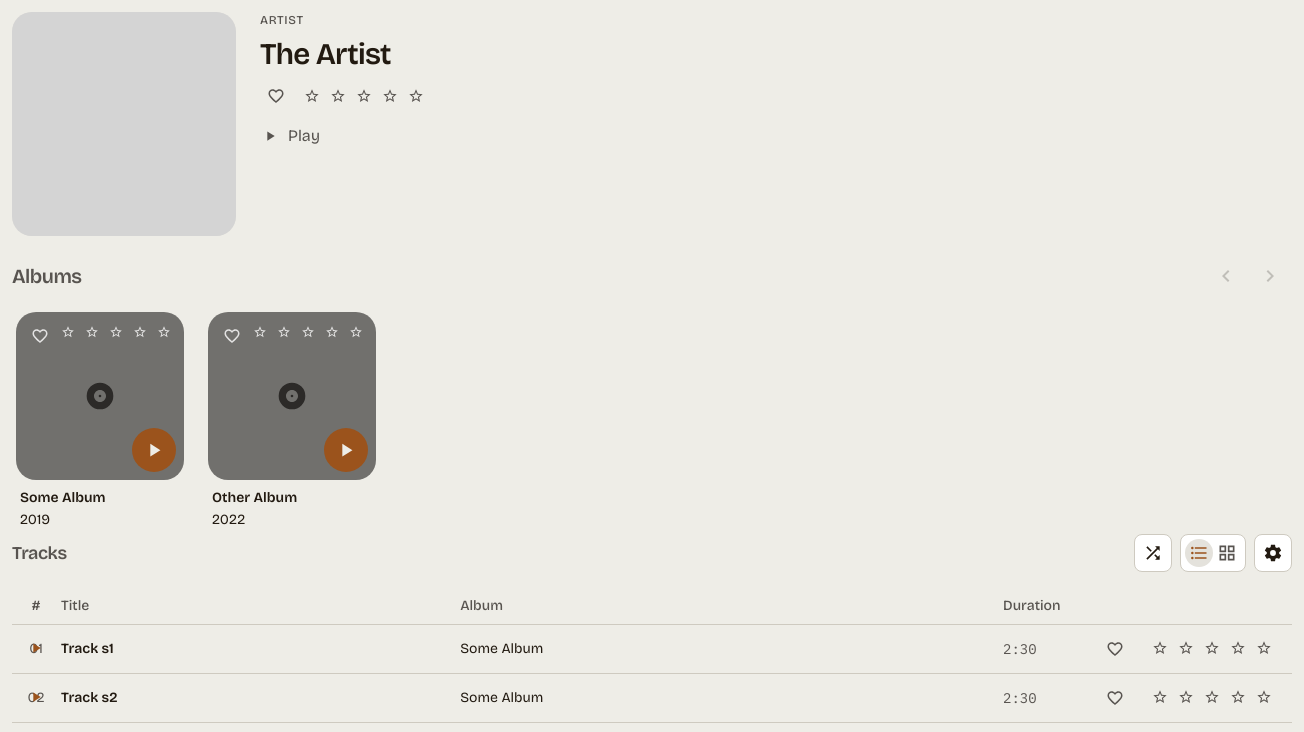
Artist detail (react-query, embedded songs, P5) › opens the album context menu on the album cards
Expected: the link "Track s1" is shown, [61,640,114,657]
Right-click the link "Some Album" next to "Other Album" at (63, 498), box [20,489,106,506]
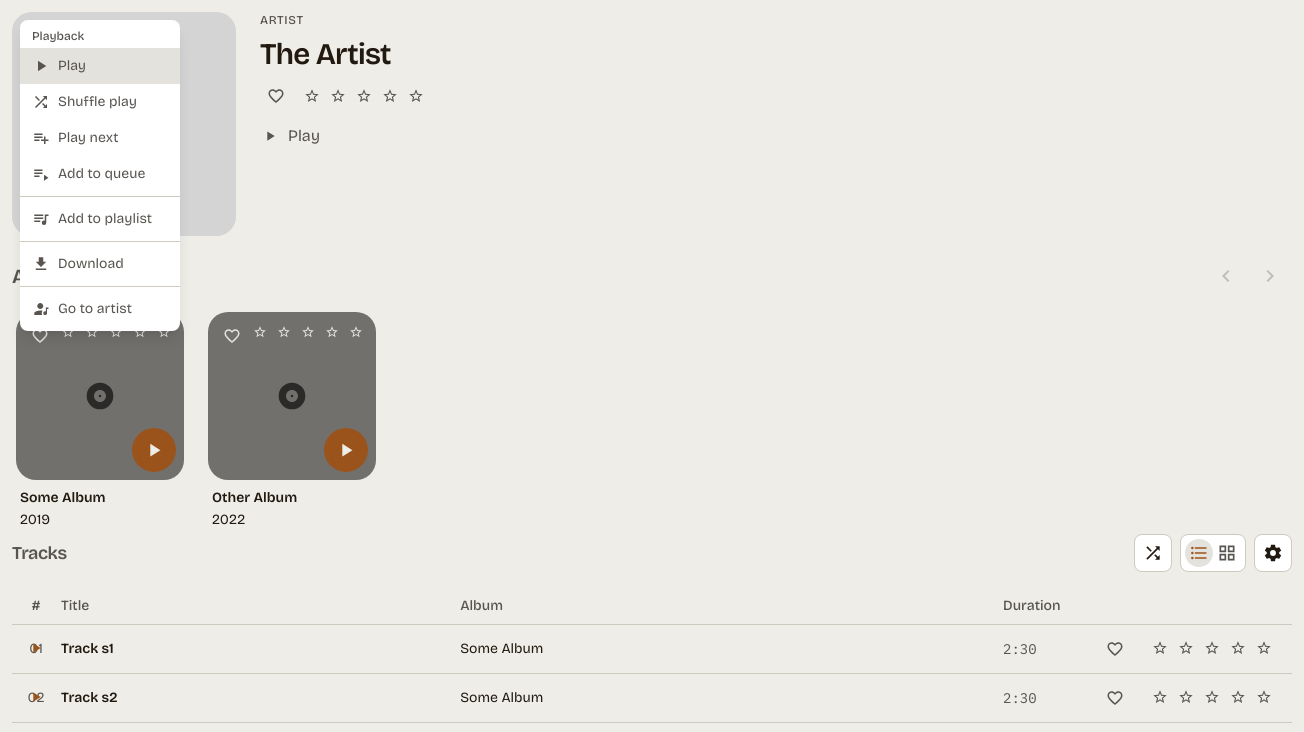
Now the menu is shown, box [20,20,180,331]
Now the menu item "Play" is shown, box [20,48,180,84]
Now the menu item "Add to playlist" is shown, box [20,201,180,237]
